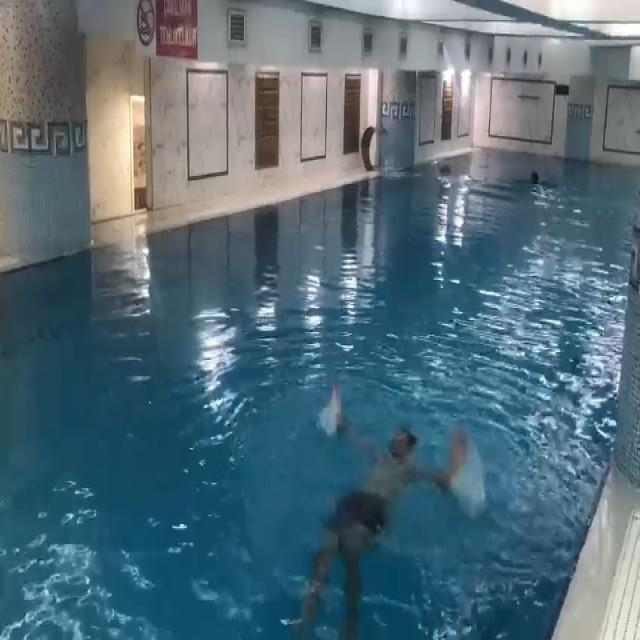Drowning: (295, 382, 464, 640)
